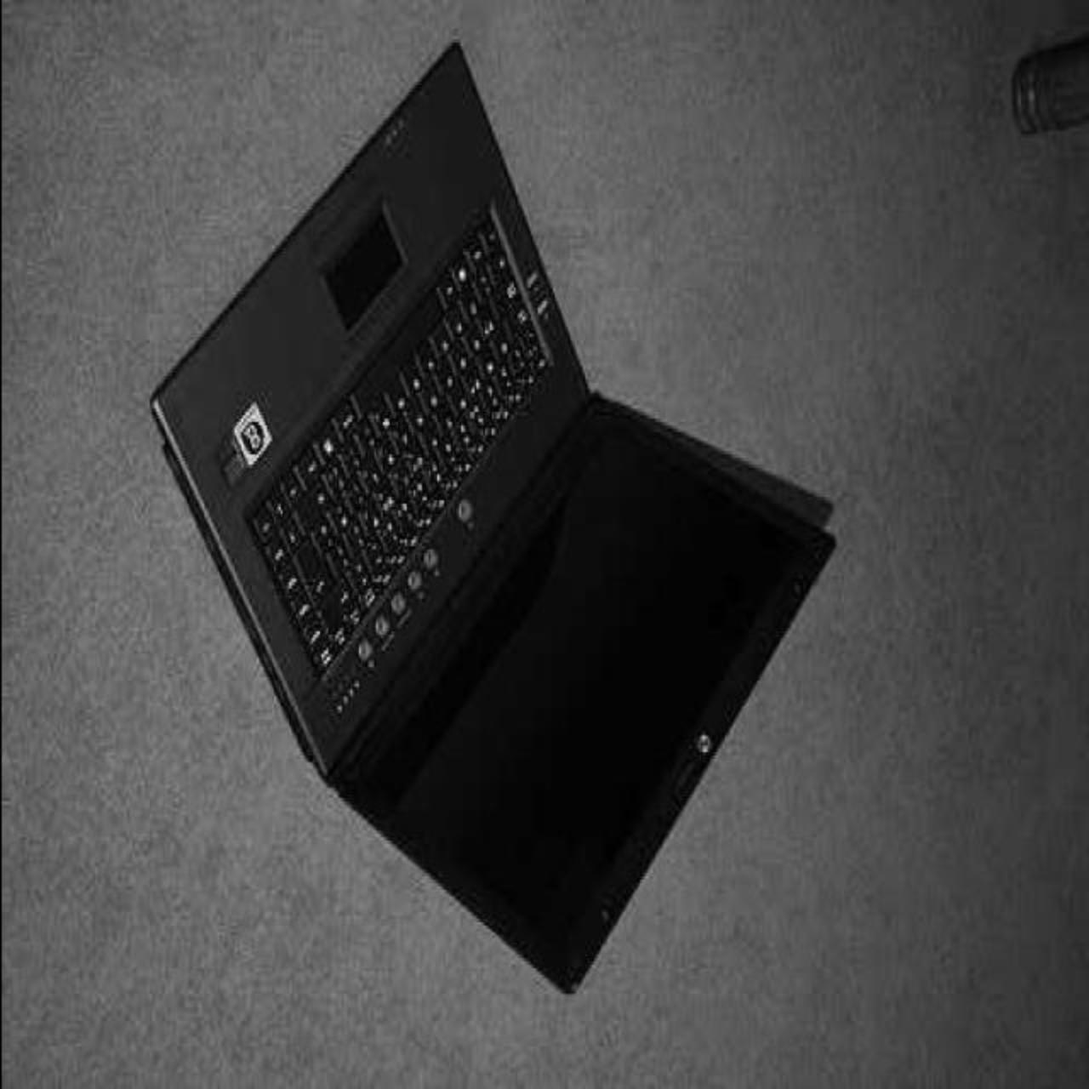laptop: (131, 41, 866, 1011)
